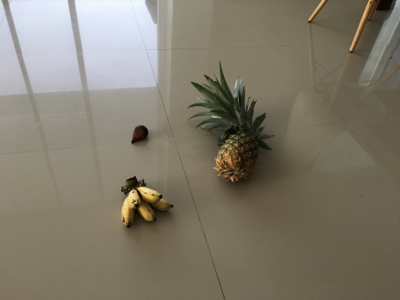banana: (119, 176, 175, 230)
pineapple: (187, 62, 274, 183)
snake fruit: (132, 126, 150, 146)
